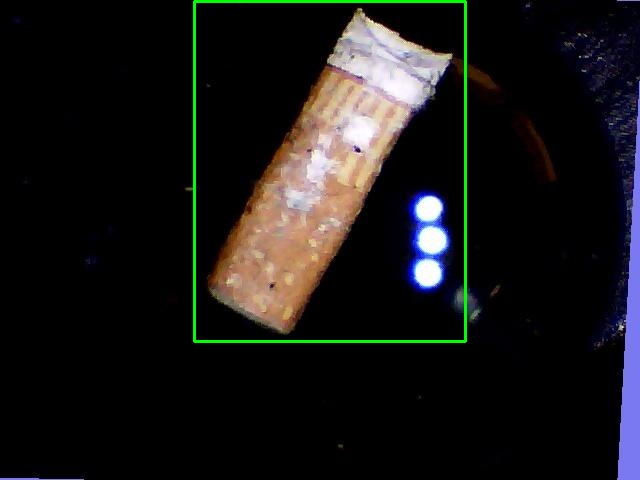megot: (194, 1, 465, 341)
